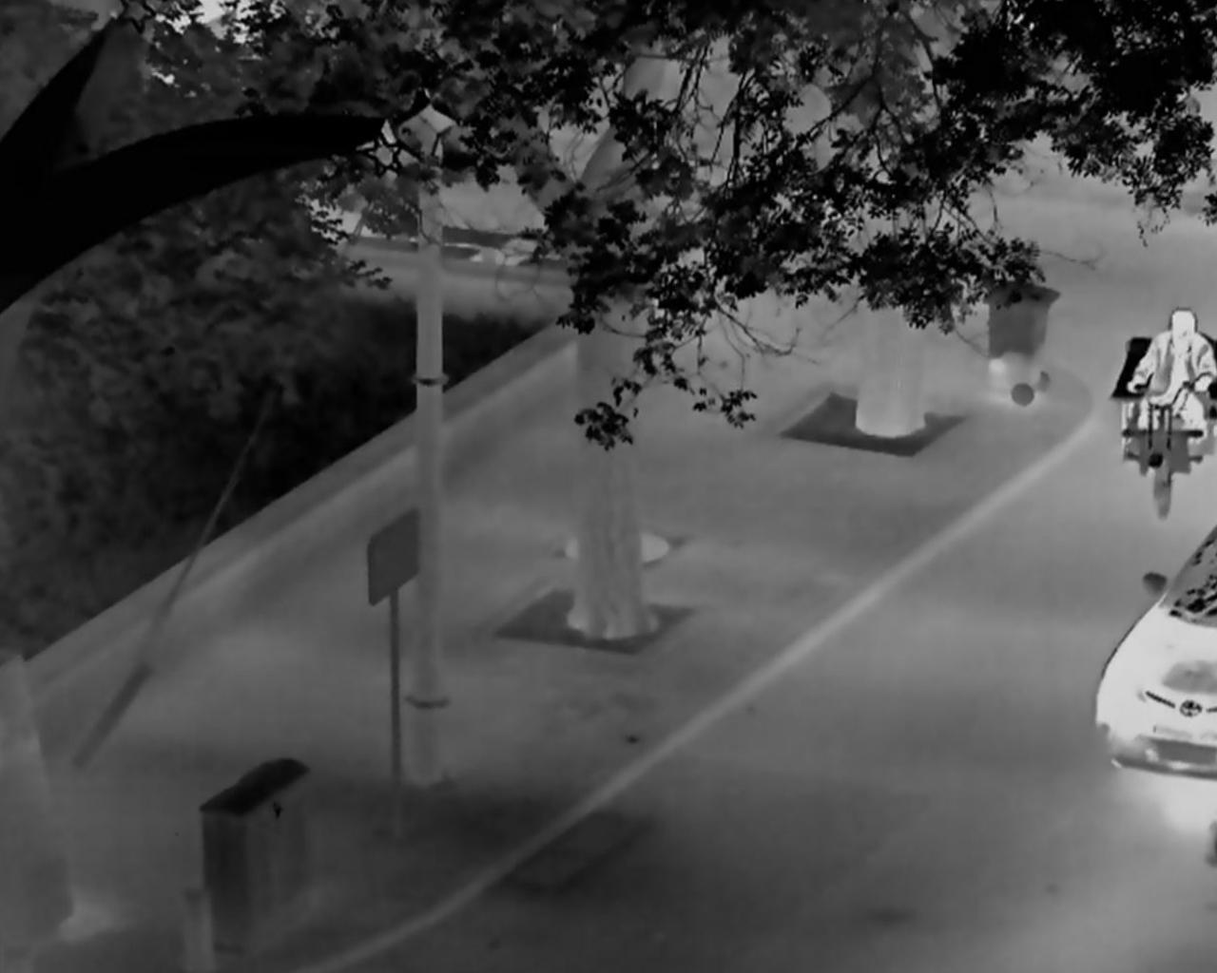person: (1126, 305, 1217, 445)
